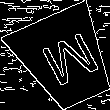M_SE: (29, 27, 100, 92)
